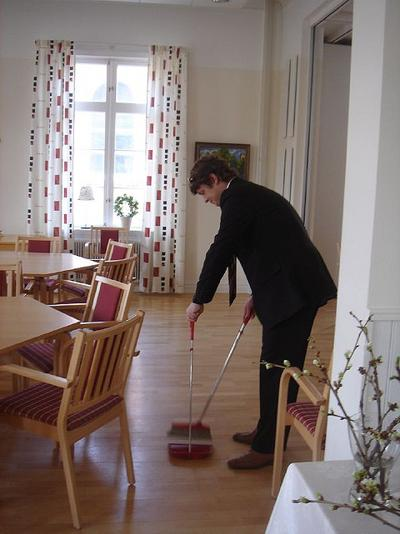person: (187, 158, 332, 473)
